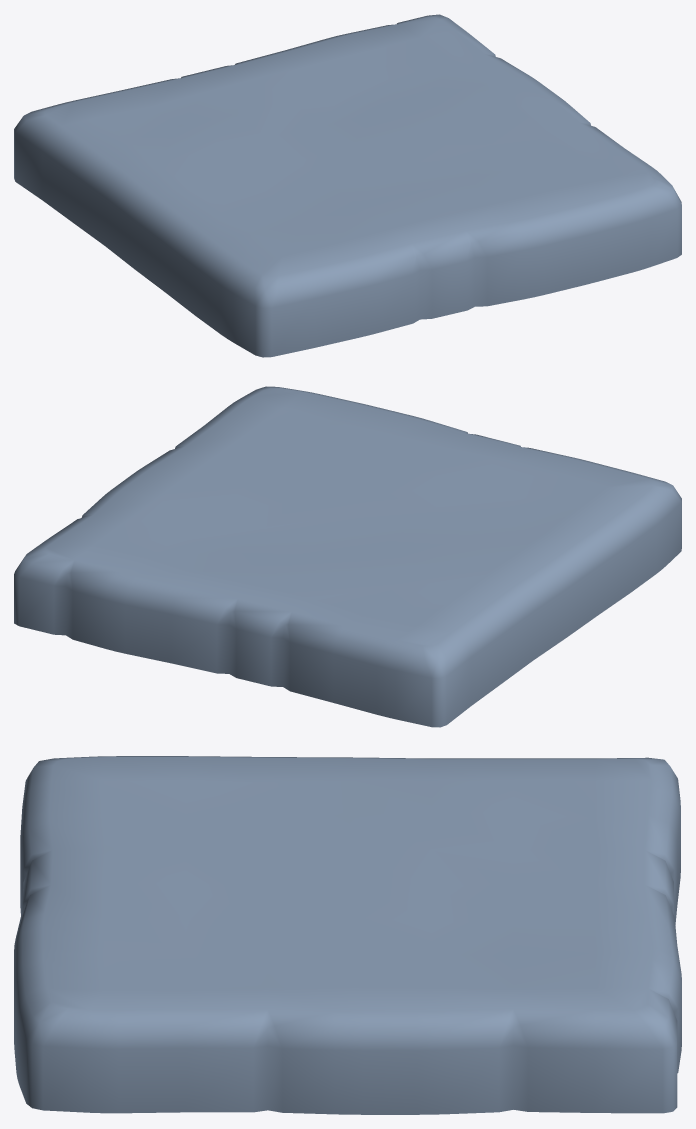
Rendered from ruins-floor-tile-1.fbx.
3 views of the same model, one above another, from view 1: azimuth 30°, elevation 25°; view 2: azimuth 150°, elevation 25°; view 3: azimuth 270°, elevation 25° (orthographic). The views are drawn at different scales.
Visible parts, largest first — view 1: Cube; view 2: Cube; view 3: Cube.
Part boxes in pixels (<box>): Cube: <box>14,14,681,357</box>; Cube: <box>14,386,681,727</box>; Cube: <box>14,756,681,1114</box>.
Size of the model in its own units: 90.85 by 14.13 by 91.78.
